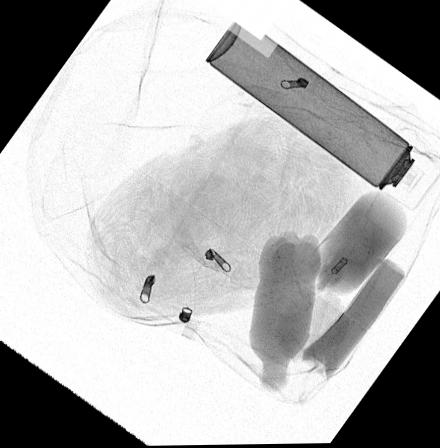Sprayer: (205, 14, 440, 210)
